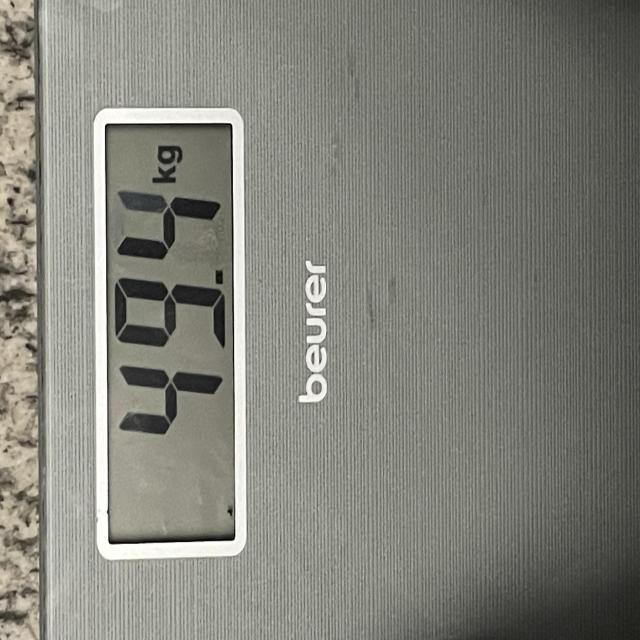ws: (7, 0, 640, 640)
